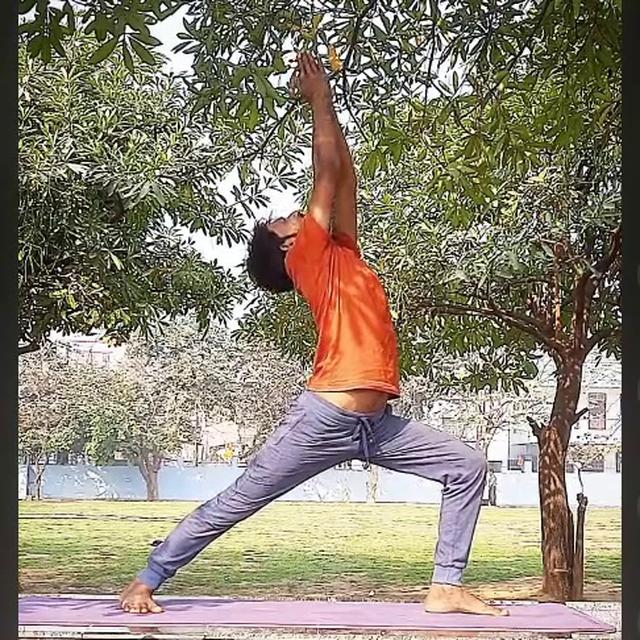Warrior_I: (100, 37, 520, 625)
